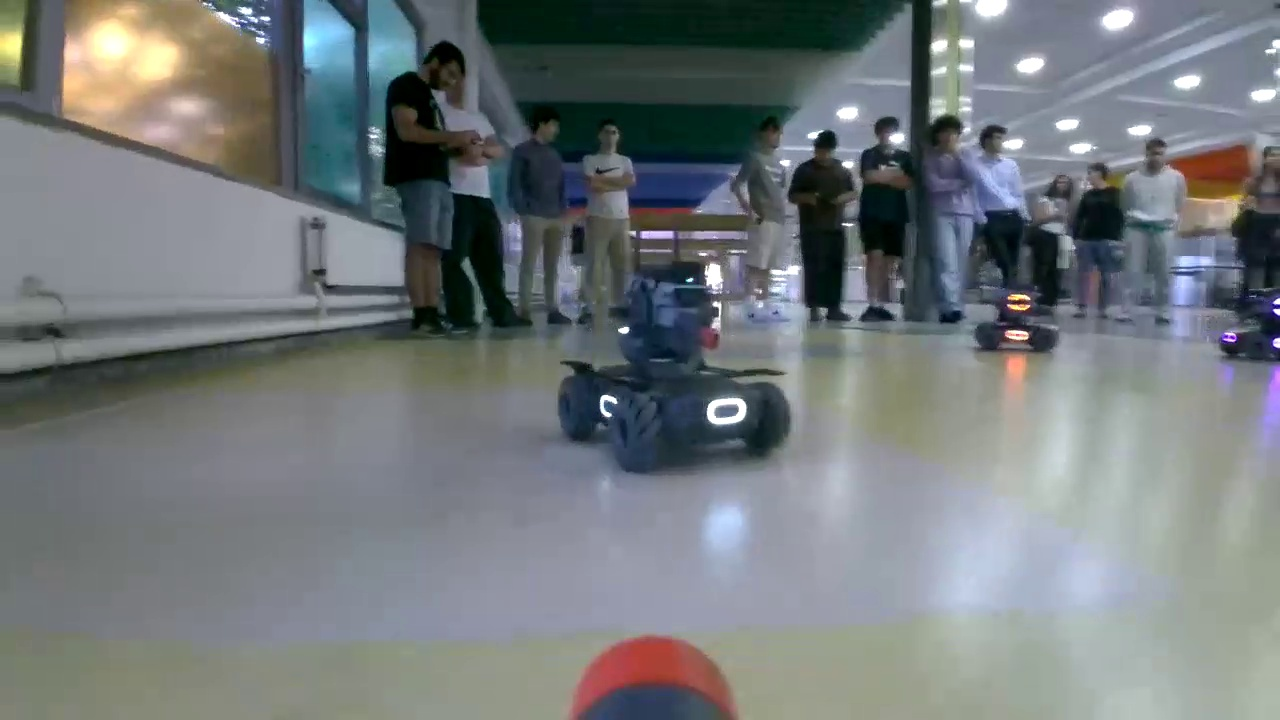robot: (562, 258, 792, 468), (978, 284, 1062, 352), (1218, 296, 1280, 362)
